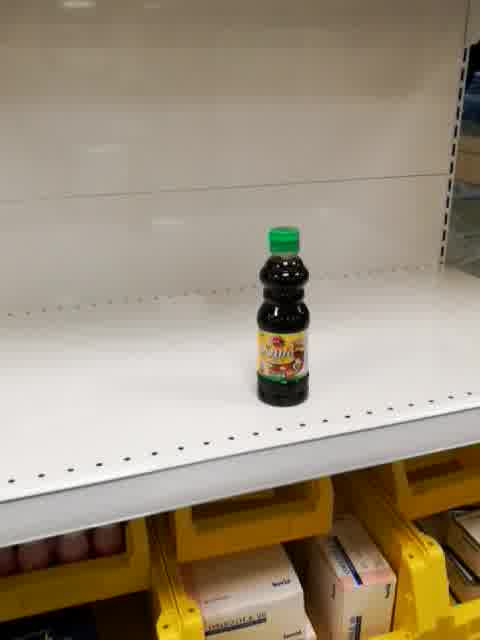cookingoil: (256, 224, 311, 408)
